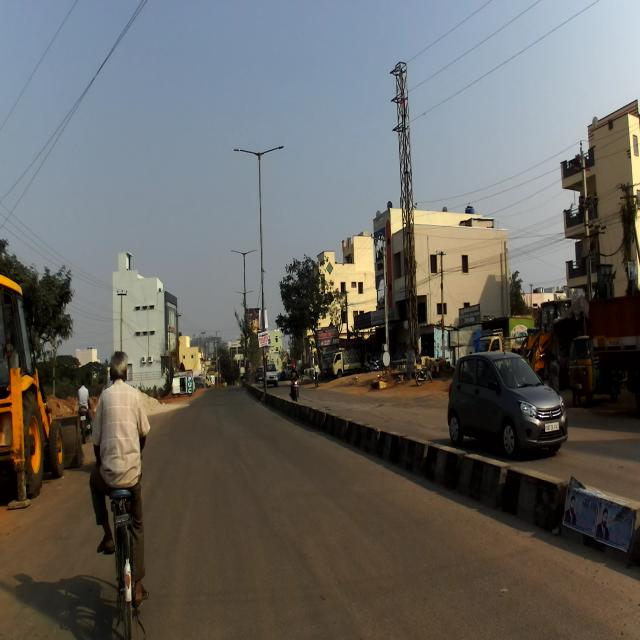bicycle ahead at: (90, 509, 150, 640)
car ahead at: (445, 344, 567, 456)
truck ahead at: (0, 266, 88, 512)
